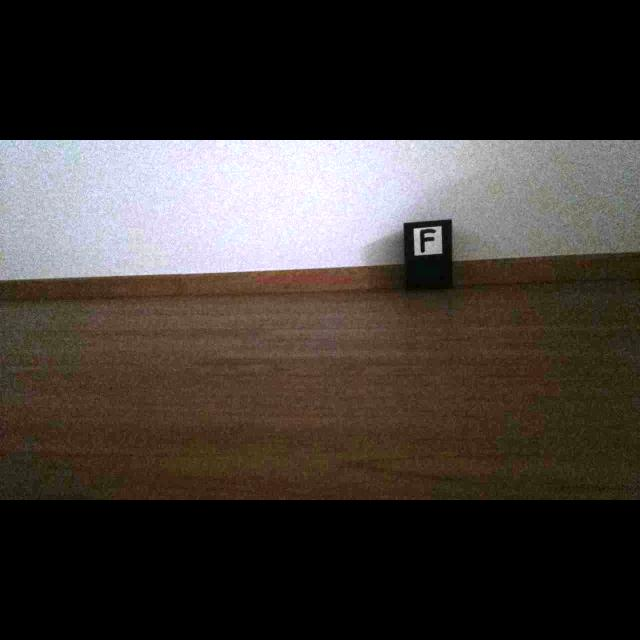F: (420, 229, 437, 253)
